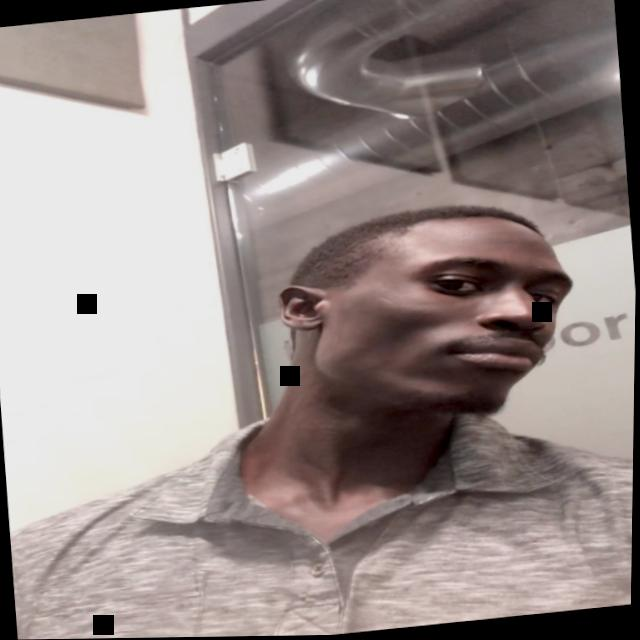NO-Mask: (298, 229, 583, 432)
